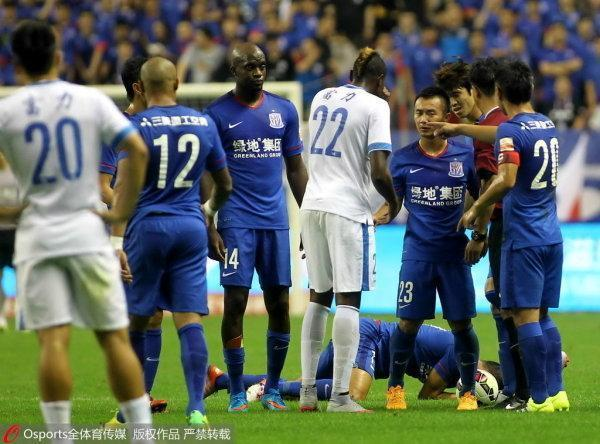Fall-Detected: (200, 304, 507, 412)
